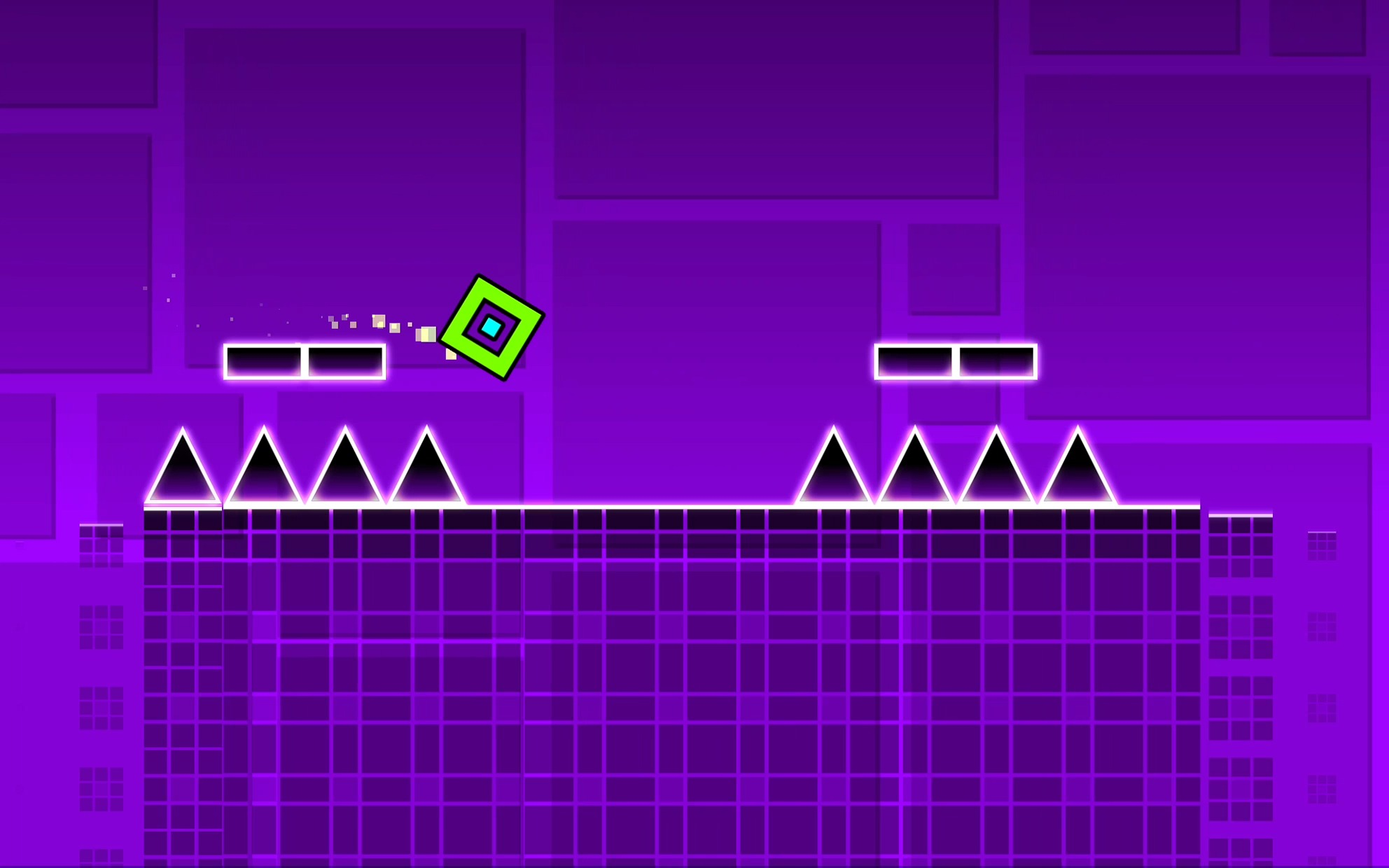Block2: (137, 505, 1280, 868)
Block3: (216, 344, 309, 383), (954, 343, 1036, 383), (870, 346, 957, 380), (307, 346, 384, 381)
Player: (437, 274, 545, 378)
Spike: (145, 428, 219, 504), (796, 426, 870, 501), (1042, 426, 1115, 502), (227, 427, 300, 503), (391, 426, 463, 502), (879, 427, 951, 501), (310, 426, 381, 501), (961, 427, 1032, 501)
